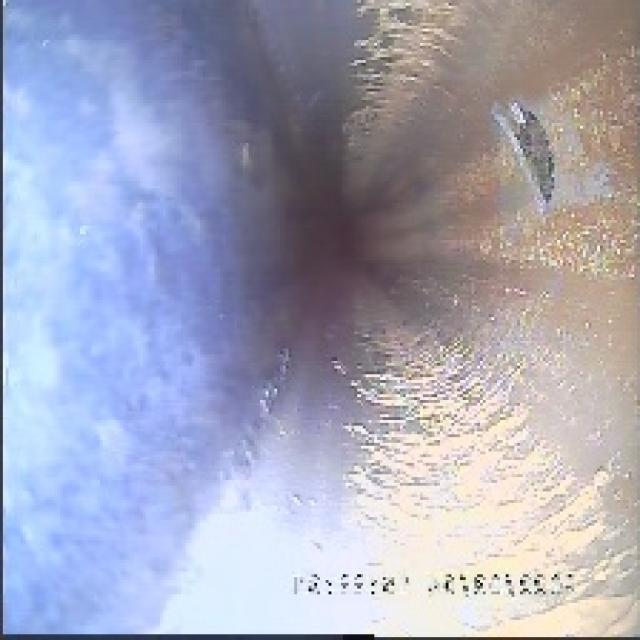pipe_surface_damage: (477, 92, 563, 212)
